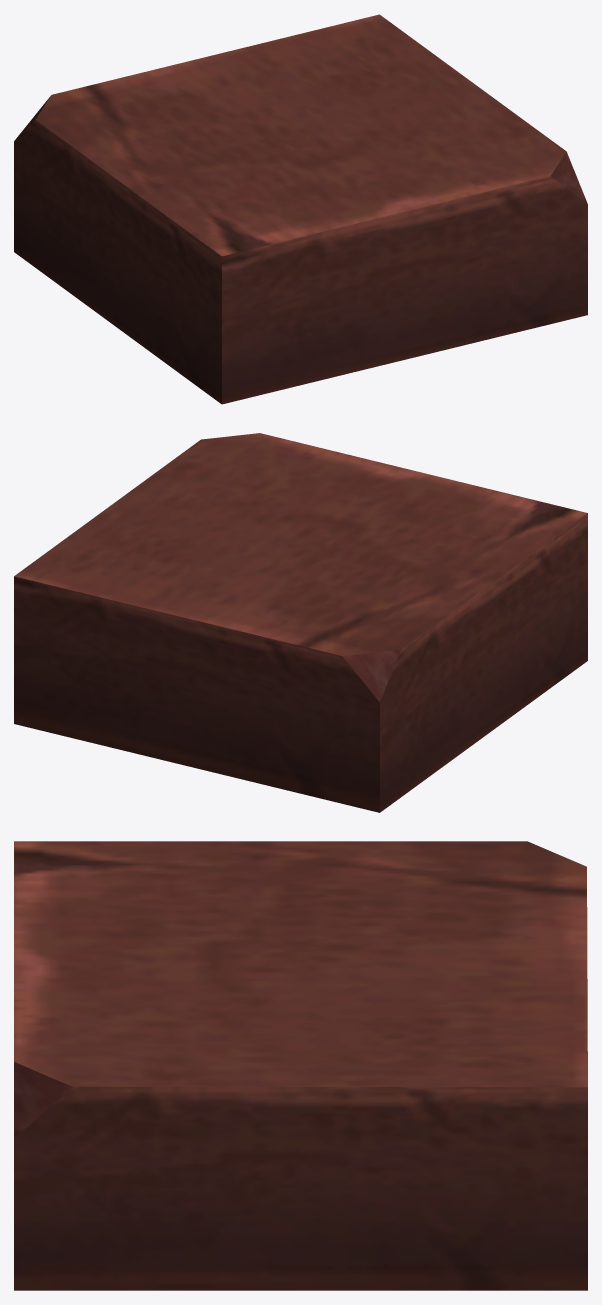
Rendered from lava_join_cap.fbx.
3 renders of one model, top to bottom at view 1: azimuth 30°, elevation 25°; view 2: azimuth 150°, elevation 25°; view 3: azimuth 270°, elevation 25°, orthographic. The views are drawn at different scales.
Visible parts, largest first — view 1: lava_tileset/trim_alpha_filler_depth_write; view 2: lava_tileset/trim_alpha_filler_depth_write; view 3: lava_tileset/trim_alpha_filler_depth_write.
Boxes of the visible parts, <box> form: lava_tileset/trim_alpha_filler_depth_write: <box>14,14,587,404</box>; lava_tileset/trim_alpha_filler_depth_write: <box>14,433,587,812</box>; lava_tileset/trim_alpha_filler_depth_write: <box>14,841,587,1290</box>.
Bounding box in the file's own units: 1.44 × 0.5554 × 1.42.
